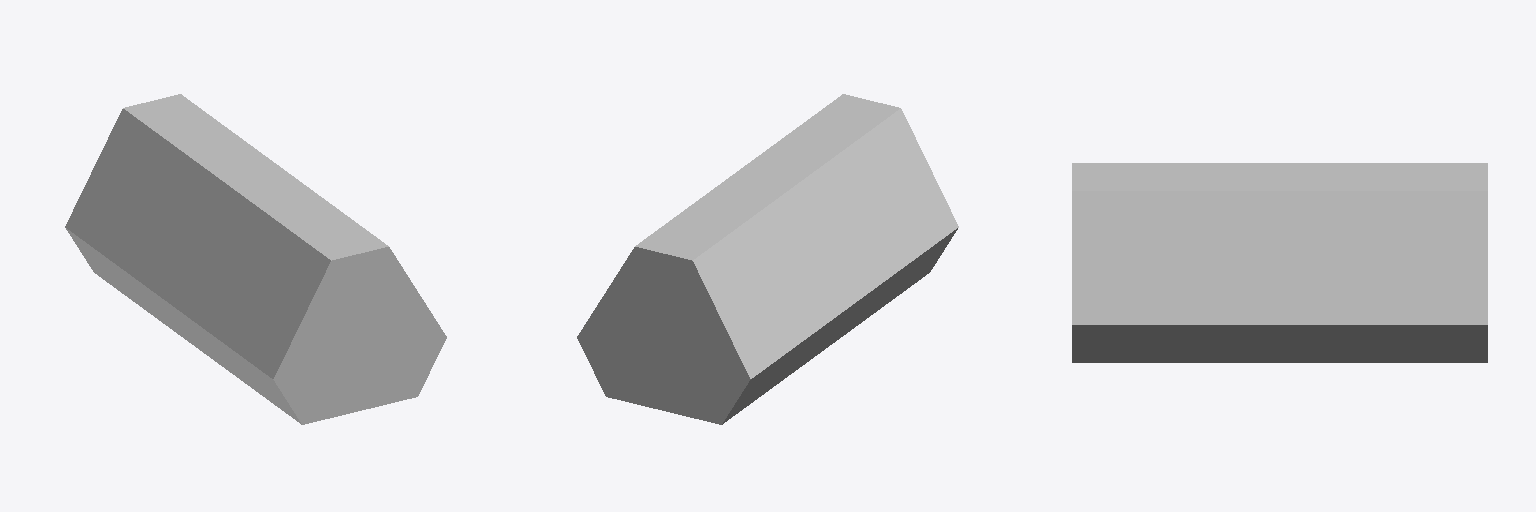
The model's file is BF_Supervoid_Beam_emitter.obj.
The picture shows the model from 3 angles: view 1: azimuth 30°, elevation 25°; view 2: azimuth 150°, elevation 25°; view 3: azimuth 270°, elevation 25°; orthographic projection.
Visible parts, largest first — view 1: Cylinder.007; view 2: Cylinder.007; view 3: Cylinder.007.
Boxes of the visible parts, box(x1,y1,x2,y2) form: Cylinder.007: box(65, 94, 446, 424); Cylinder.007: box(577, 94, 958, 424); Cylinder.007: box(1072, 163, 1487, 362).
Bounding box in the file's own units: 1.17 × 1.01 × 2.43.